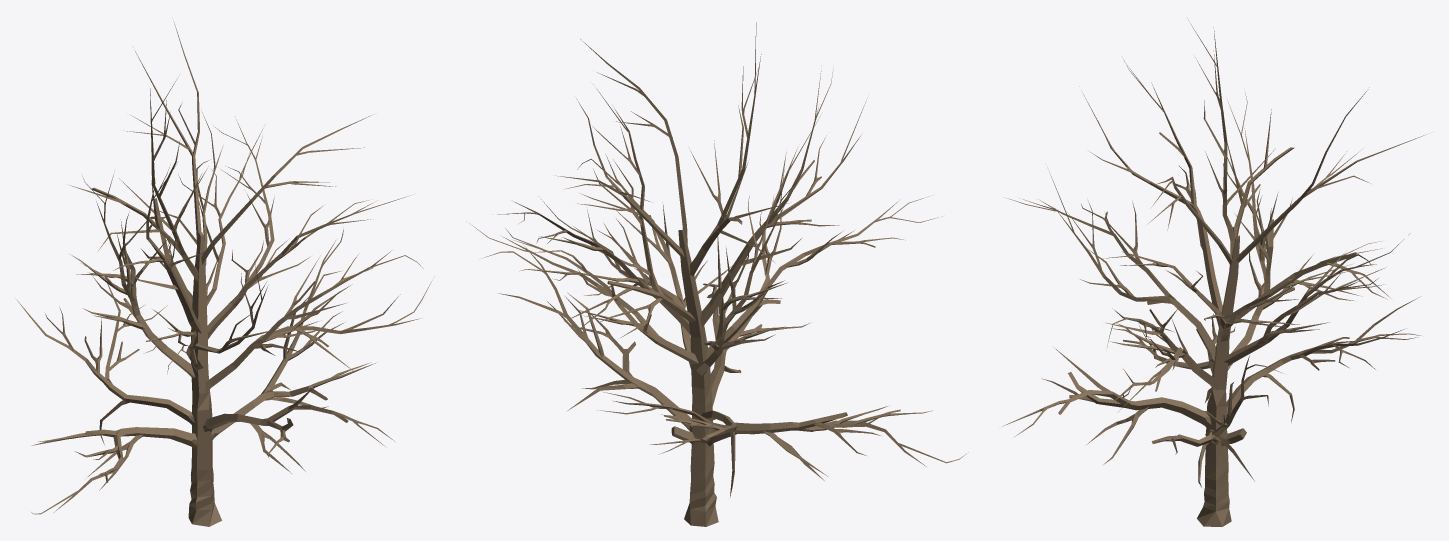
File: tree_bare_a_8.FBX
3 views of the same model, side by side, from view 1: azimuth 30°, elevation 25°; view 2: azimuth 150°, elevation 25°; view 3: azimuth 270°, elevation 25° (orthographic). The views are drawn at different scales.
Visible parts, largest first — view 1: tree_bare_a_8; view 2: tree_bare_a_8; view 3: tree_bare_a_8.
Boxes of the visible parts, x1=… form: tree_bare_a_8: x1=15, y1=21, x2=432, y2=526; tree_bare_a_8: x1=466, y1=22, x2=968, y2=526; tree_bare_a_8: x1=1002, y1=18, x2=1426, y2=526.
Bounding box in the file's own units: 9.22 × 10.22 × 8.29.
